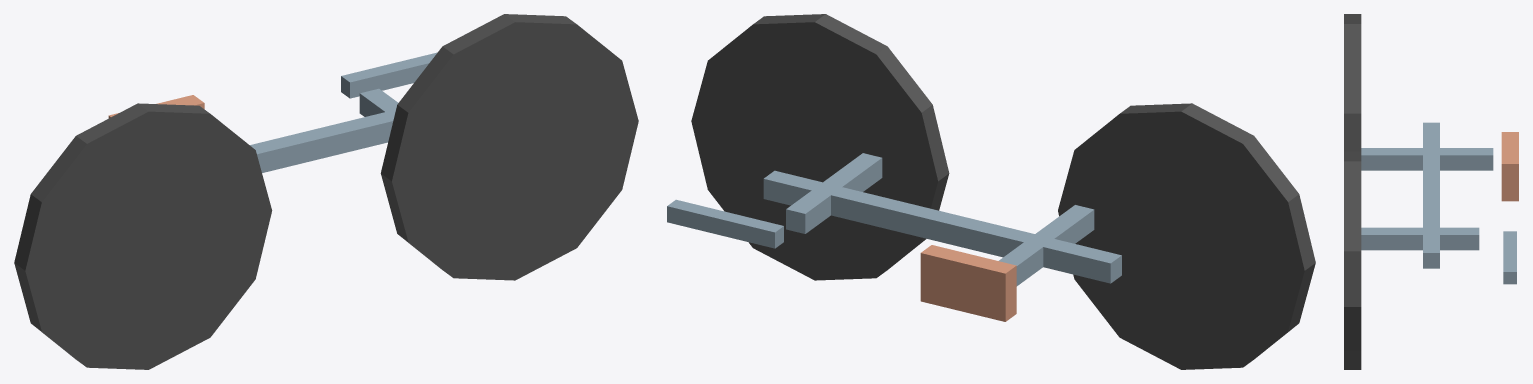
The model's file is bicycle.glb.
3 views of the same model, side by side, from view 1: azimuth 30°, elevation 25°; view 2: azimuth 150°, elevation 25°; view 3: azimuth 270°, elevation 25° (orthographic). The views are drawn at different scales.
Visible parts, largest first — view 1: wheel_r, wheel_f, frame, bars, fork; view 2: wheel_r, wheel_f, frame, seat, bars, fork, seat_post; view 3: wheel_f, seat_post, fork, frame, wheel_r, seat, bars.
Boxes of the visible parts, box(x1,y1,x2,y2) form: wheel_r: box(14, 103, 272, 369); wheel_f: box(380, 14, 638, 280); frame: box(250, 110, 395, 172); bars: box(341, 52, 437, 98); fork: box(359, 88, 398, 116); wheel_r: box(1058, 103, 1315, 369); wheel_f: box(691, 14, 949, 280); frame: box(763, 170, 1121, 283); seat: box(920, 245, 1016, 321); bars: box(667, 199, 783, 248); fork: box(786, 153, 882, 233); seat_post: box(999, 205, 1094, 286); wheel_f: box(1344, 151, 1361, 369); seat_post: box(1361, 148, 1493, 170); fork: box(1361, 227, 1479, 250); frame: box(1423, 122, 1439, 268); wheel_r: box(1344, 14, 1361, 151); seat: box(1501, 132, 1518, 201); bars: box(1503, 231, 1516, 284).
Size of the model in its own units: 1.59 by 0.64 by 0.51.
